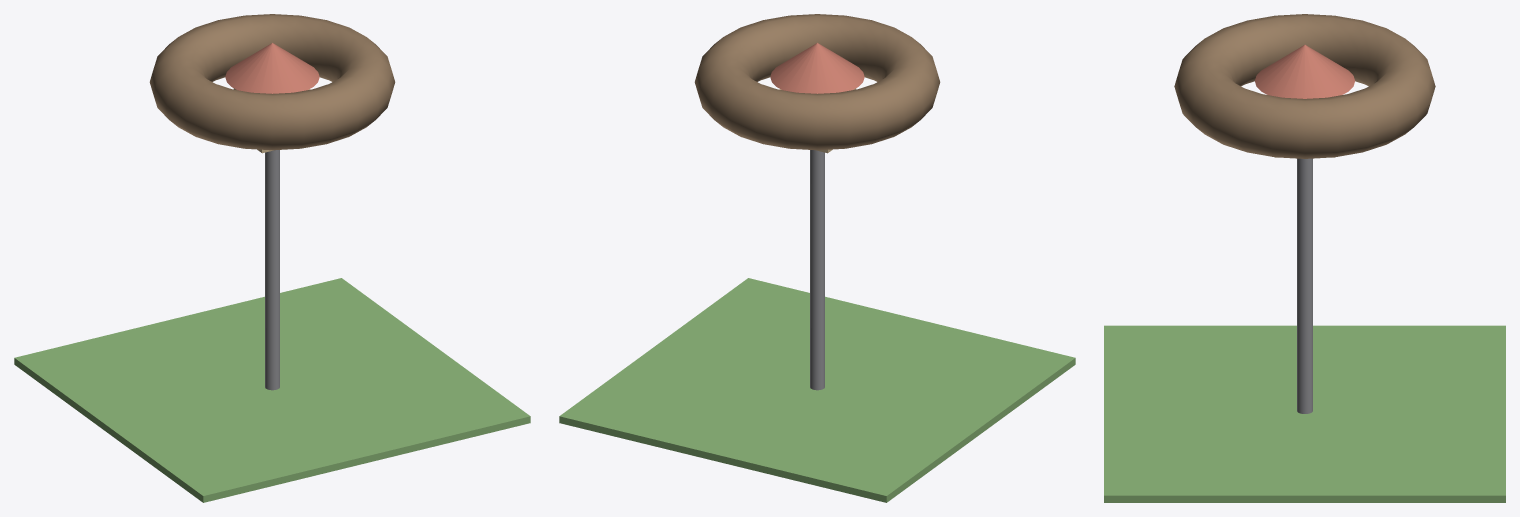
File: bird_house.glb
The picture shows the model from 3 angles, left to right: view 1: azimuth 30°, elevation 25°; view 2: azimuth 150°, elevation 25°; view 3: azimuth 270°, elevation 25°; orthographic projection. The views are drawn at different scales.
Parts seen in each view (by area): view 1: ground, trim_ring, pole, roof; view 2: ground, trim_ring, pole, roof; view 3: ground, trim_ring, pole, roof.
Boxes of the visible parts, x1=… form: ground: x1=14, y1=278, x2=530, y2=502; trim_ring: x1=149, y1=14, x2=395, y2=150; pole: x1=265, y1=150, x2=279, y2=390; roof: x1=225, y1=43, x2=319, y2=93; ground: x1=559, y1=278, x2=1075, y2=502; trim_ring: x1=694, y1=14, x2=940, y2=150; pole: x1=810, y1=150, x2=824, y2=390; roof: x1=770, y1=43, x2=864, y2=93; ground: x1=1104, y1=325, x2=1505, y2=502; trim_ring: x1=1174, y1=14, x2=1435, y2=158; pole: x1=1297, y1=158, x2=1312, y2=413; roof: x1=1255, y1=45, x2=1354, y2=98.
Bounding box in the file's own units: 2 × 2.05 × 2.
